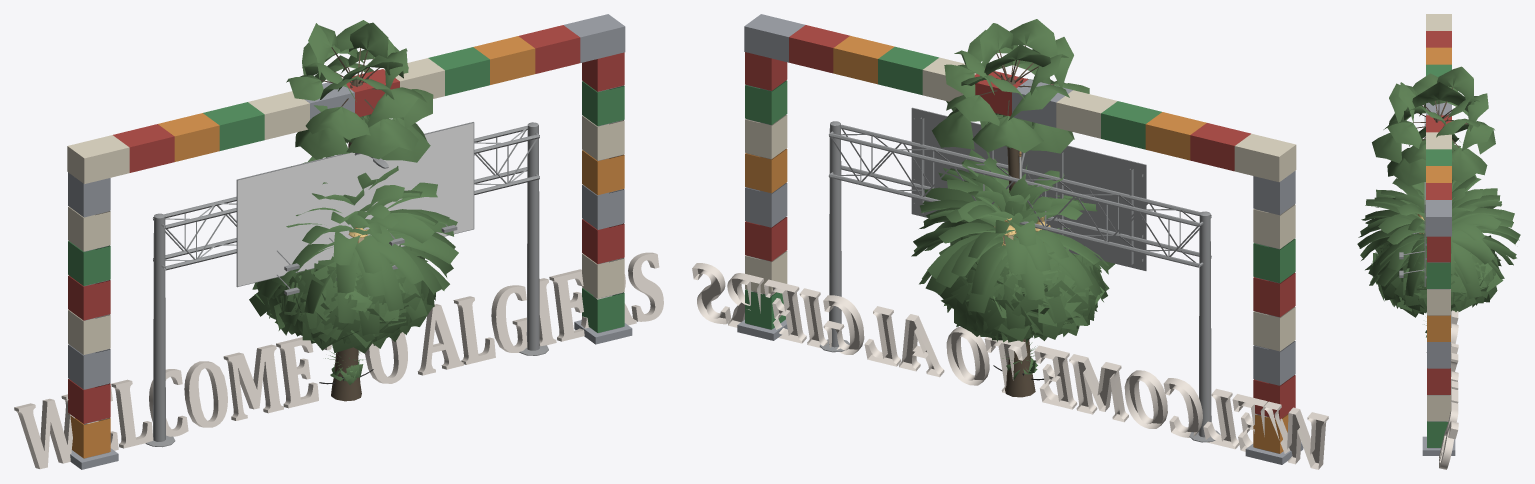
The model's file is street.glb.
3 views of the same model, side by side, from view 1: azimuth 30°, elevation 25°; view 2: azimuth 150°, elevation 25°; view 3: azimuth 270°, elevation 25° (orthographic). The views are drawn at different scales.
Parts seen in each view (by area): view 1: Letters.Letter, Gantry.SignFace, Palm.Leaf.skin, Washingtonia.Leaf.skin, Totem.Block0, Totem.Block1, Gantry.StreetSteel, Totem.Block2, Totem.Block3, Ficus.Leaf.skin, GantryGreen.SignFace, Totem.Block4 (+1 smaller); view 2: Letters.Letter, Gantry.StreetSteel, Palm.Leaf.skin, Washingtonia.Leaf.skin, Totem.Block0, Totem.Block1, Totem.Block2, Totem.Block3, Ficus.Leaf.skin, Totem.Block4, GantryGreen.StreetSteel, Palm.Bark (+1 smaller); view 3: Palm.Leaf.skin, Washingtonia.Leaf.skin, Ficus.Leaf.skin, Totem.Block1, Totem.Block2, Totem.Block0, Totem.Block3, Totem.Block4, Letters.Letter, Gantry.StreetSteel, Washingtonia.Bark.
Boxes of the visible parts, x1=… form: Letters.Letter: x1=14, y1=252, x2=663, y2=469; Gantry.SignFace: x1=237, y1=123, x2=473, y2=286; Palm.Leaf.skin: x1=254, y1=155, x2=458, y2=335; Washingtonia.Leaf.skin: x1=286, y1=20, x2=433, y2=162; Totem.Block0: x1=67, y1=58, x2=624, y2=354; Totem.Block1: x1=68, y1=25, x2=624, y2=423; Gantry.StreetSteel: x1=145, y1=122, x2=548, y2=447; Totem.Block2: x1=68, y1=14, x2=632, y2=469; Totem.Block3: x1=68, y1=47, x2=624, y2=332; Ficus.Leaf.skin: x1=249, y1=244, x2=435, y2=353; GantryGreen.SignFace: x1=238, y1=147, x2=473, y2=262; Totem.Block4: x1=68, y1=36, x2=624, y2=458; Letters.Letter: x1=692, y1=263, x2=1328, y2=469; Gantry.StreetSteel: x1=819, y1=107, x2=1220, y2=442; Palm.Leaf.skin: x1=911, y1=149, x2=1114, y2=329; Washingtonia.Leaf.skin: x1=932, y1=19, x2=1089, y2=153; Totem.Block0: x1=745, y1=57, x2=1296, y2=351; Totem.Block1: x1=745, y1=25, x2=1295, y2=419; Totem.Block2: x1=737, y1=14, x2=1303, y2=464; Totem.Block3: x1=745, y1=46, x2=1295, y2=329; Ficus.Leaf.skin: x1=938, y1=237, x2=1109, y2=345; Totem.Block4: x1=745, y1=36, x2=1288, y2=453; GantryGreen.StreetSteel: x1=912, y1=142, x2=1146, y2=247; Palm.Bark: x1=1005, y1=236, x2=1035, y2=397; Palm.Leaf.skin: x1=1357, y1=174, x2=1520, y2=298; Washingtonia.Leaf.skin: x1=1372, y1=66, x2=1495, y2=186; Ficus.Leaf.skin: x1=1365, y1=235, x2=1503, y2=317; Totem.Block1: x1=1426, y1=31, x2=1451, y2=394; Totem.Block2: x1=1422, y1=102, x2=1455, y2=455; Totem.Block0: x1=1426, y1=14, x2=1451, y2=421; Totem.Block3: x1=1426, y1=64, x2=1451, y2=447; Totem.Block4: x1=1426, y1=47, x2=1451, y2=341; Letters.Letter: x1=1439, y1=310, x2=1458, y2=469; Gantry.StreetSteel: x1=1399, y1=117, x2=1426, y2=286; Washingtonia.Bark: x1=1413, y1=87, x2=1468, y2=147.
Size of the model in its own units: 26 by 14.29 by 7.5.
